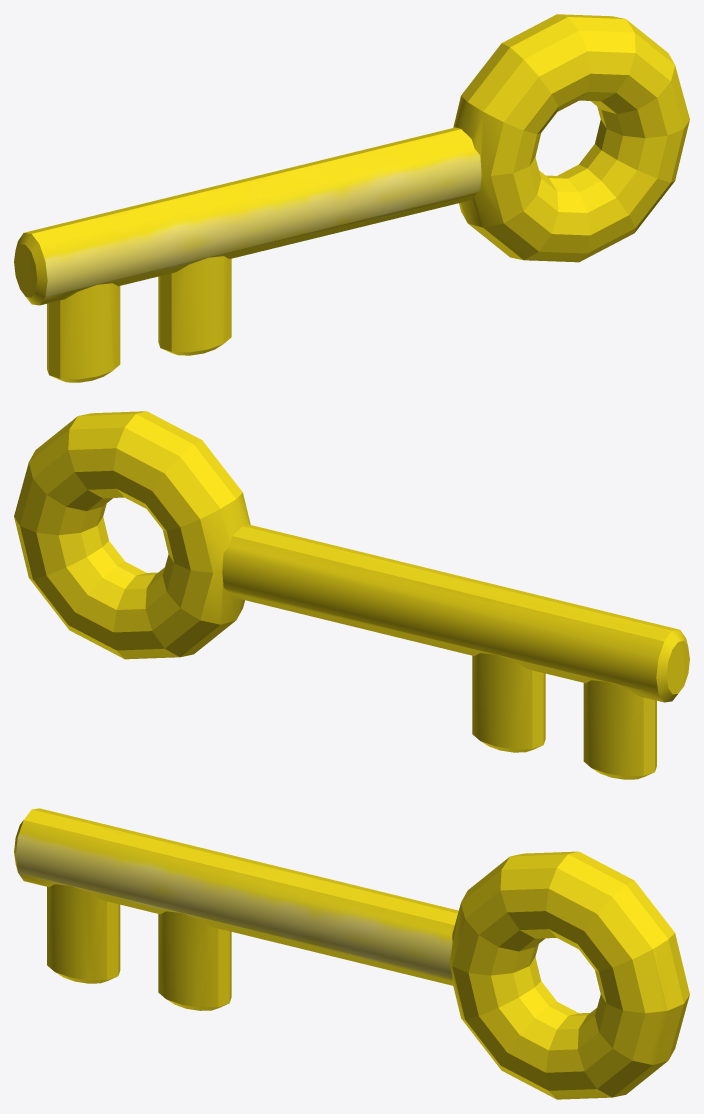
The model's file is Key.fbx.
The picture shows the model from 3 angles, top to bottom: view 1: azimuth 30°, elevation 25°; view 2: azimuth 150°, elevation 25°; view 3: azimuth 330°, elevation 25°; orthographic projection.
Parts seen in each view (by area): view 1: Key; view 2: Key; view 3: Key.
Boxes of the visible parts, x1=… form: Key: x1=14, y1=14, x2=689, y2=382; Key: x1=14, y1=411, x2=689, y2=779; Key: x1=14, y1=808, x2=689, y2=1099.
Size of the model in its own units: 1.07 by 0.3779 by 0.126.
